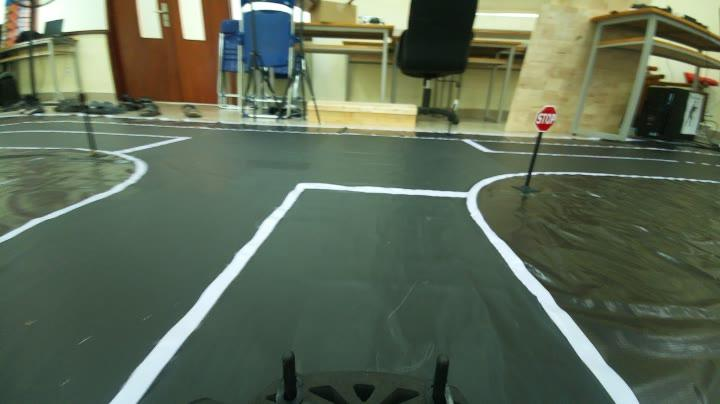stop: (531, 100, 562, 136)
